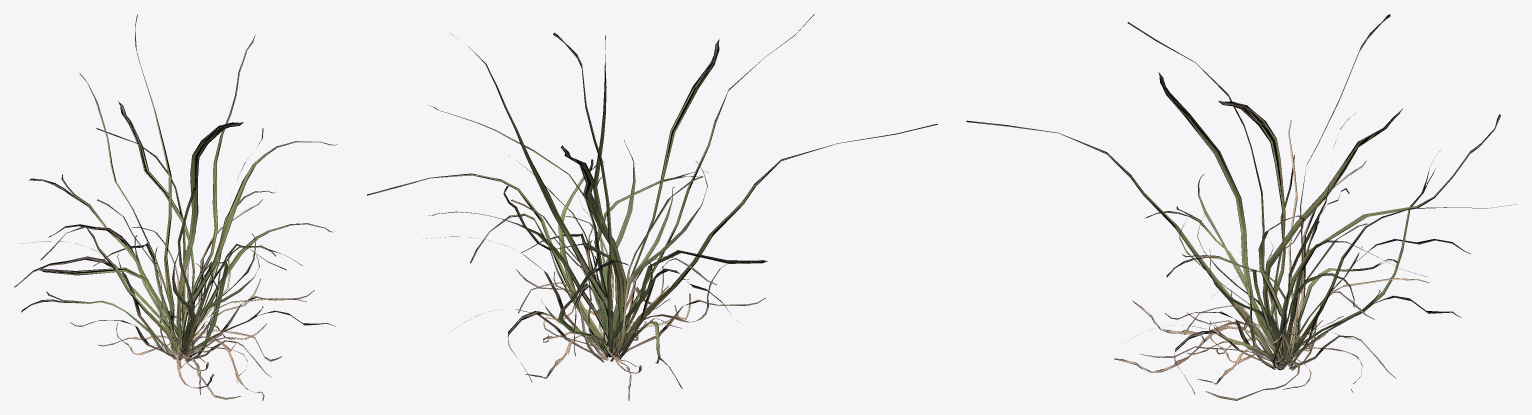
File: capim_touceira_a.glb
3 renders of one model, left to right at view 1: azimuth 30°, elevation 25°; view 2: azimuth 150°, elevation 25°; view 3: azimuth 270°, elevation 25°, orthographic. The views are drawn at different scales.
Parts seen in each view (by area): view 1: grass_medium_02_d; view 2: grass_medium_02_d; view 3: grass_medium_02_d.
Boxes of the visible parts, x1=… form: grass_medium_02_d: x1=14, y1=14, x2=337, y2=400; grass_medium_02_d: x1=367, y1=14, x2=937, y2=400; grass_medium_02_d: x1=966, y1=14, x2=1516, y2=400.
Size of the model in its own units: 0.3174 by 0.2604 by 0.3619.
1 material, 1 textured.
